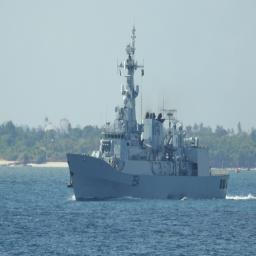Fragata: (67, 13, 233, 207)
